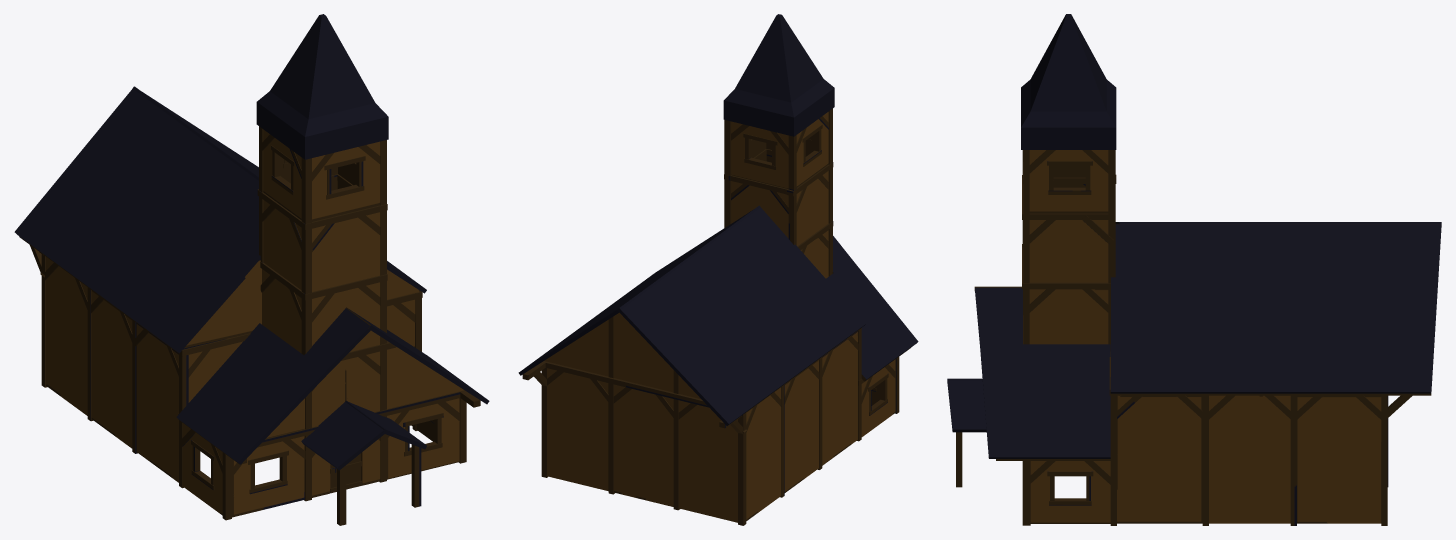
Rendered from Church.fbx.
3 views of the same model, side by side, from view 1: azimuth 30°, elevation 25°; view 2: azimuth 150°, elevation 25°; view 3: azimuth 270°, elevation 25° (orthographic). The views are drawn at different scales.
Visible parts, largest first — view 1: Cube.002; view 2: Cube.002; view 3: Cube.002.
Part boxes in pixels (x1,y1,x2,y2): Cube.002: (14, 14, 489, 525); Cube.002: (518, 14, 918, 525); Cube.002: (947, 14, 1441, 525).
Bounding box in the file's own units: 1850 × 1869 × 1071.
1 material, 1 textured.
